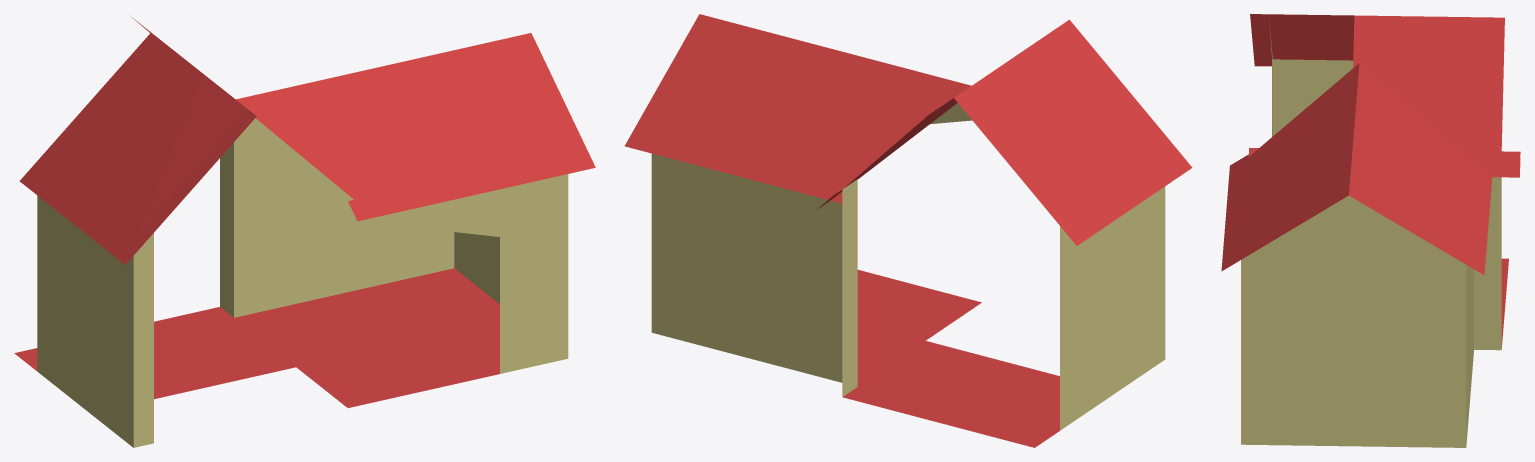
The picture shows the model from 3 angles, left to right: view 1: azimuth 30°, elevation 25°; view 2: azimuth 150°, elevation 25°; view 3: azimuth 270°, elevation 25°; orthographic projection. The views are drawn at different scales.
Size of the model in its own units: 19.73 by 11.92 by 12.83.
